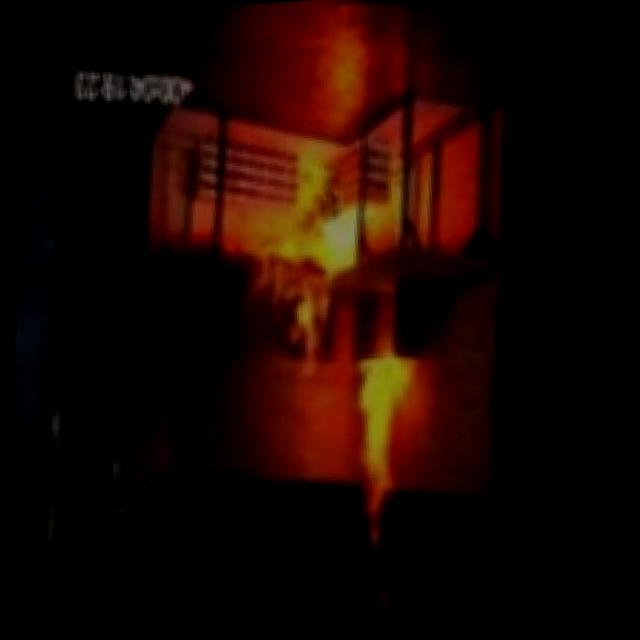fire: (298, 300, 475, 565), (219, 133, 382, 366)
